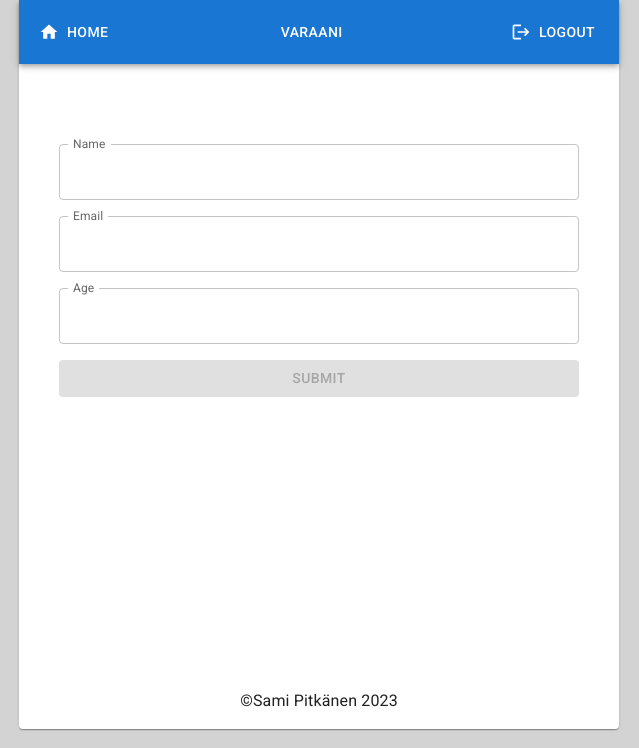
Scenario: values given in form appear on the summary page
In the field labelled "Name": point(319, 172) top-left (59, 144), bottom-right (579, 200), type "Test User"
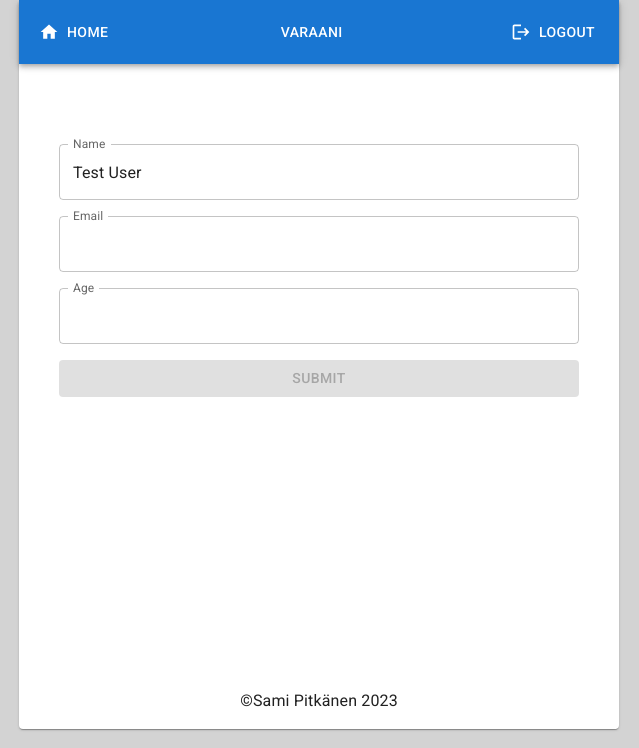
In the field labelled "Email": point(319, 244) top-left (59, 216), bottom-right (579, 272), type "user@email.com"
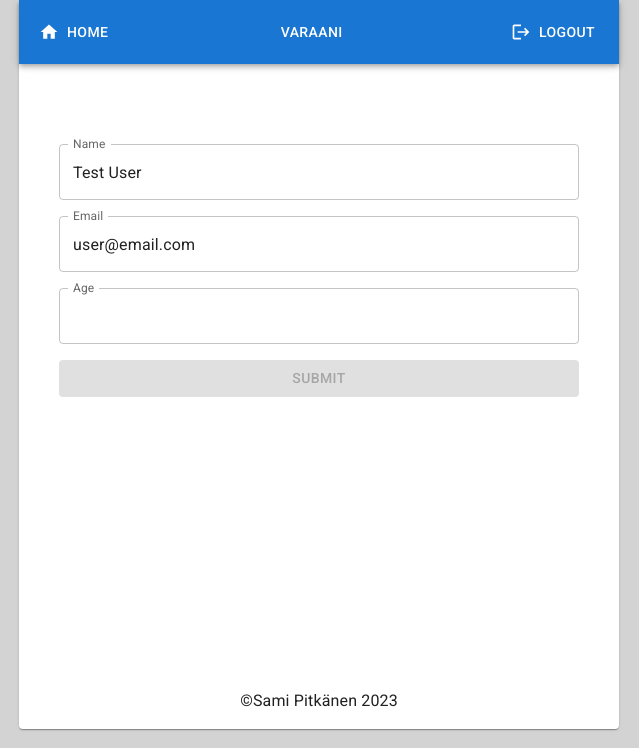
In the field labelled "Age": point(319, 316) top-left (59, 288), bottom-right (579, 344), type "20"
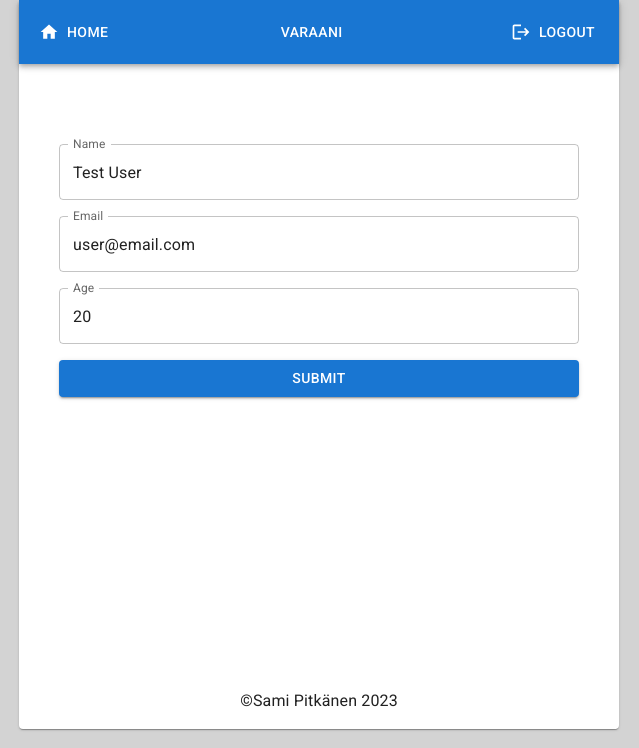
Check: the button "Submit" is enabled
Click the button "Submit": point(319, 378) top-left (59, 360), bottom-right (579, 396)
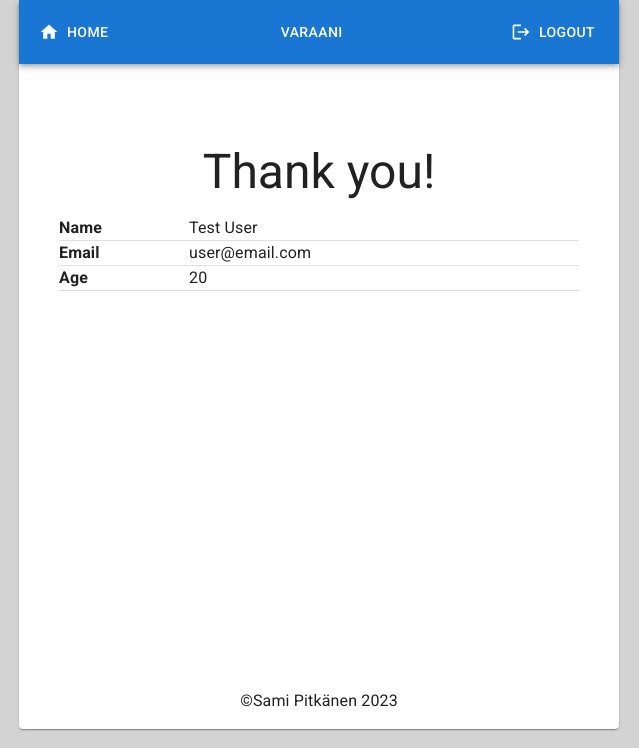
Check: the heading "Thank you!" is shown, box top-left (203, 143), bottom-right (435, 200)
Check: the text "Test User" is shown, box top-left (189, 218), bottom-right (258, 237)
Check: the text "user@email.com" is shown, box top-left (189, 243), bottom-right (311, 262)
